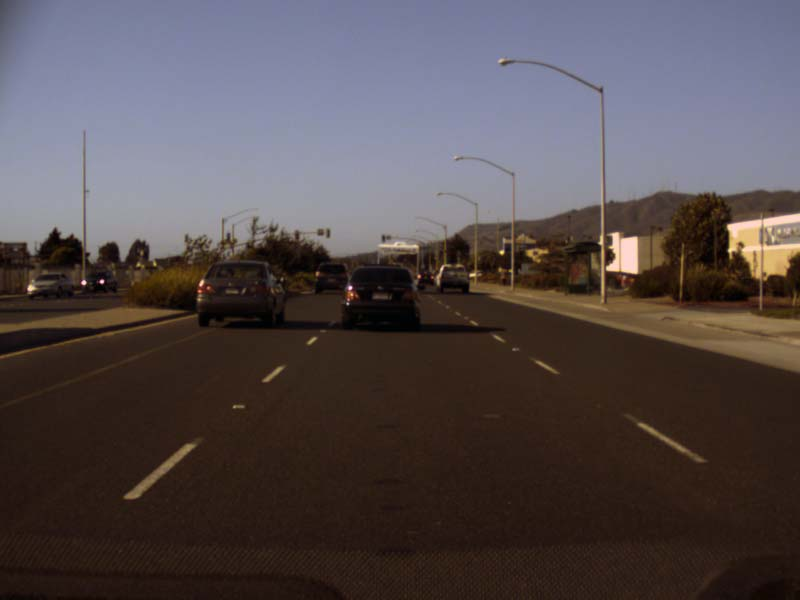Green: (380, 234, 385, 243)
